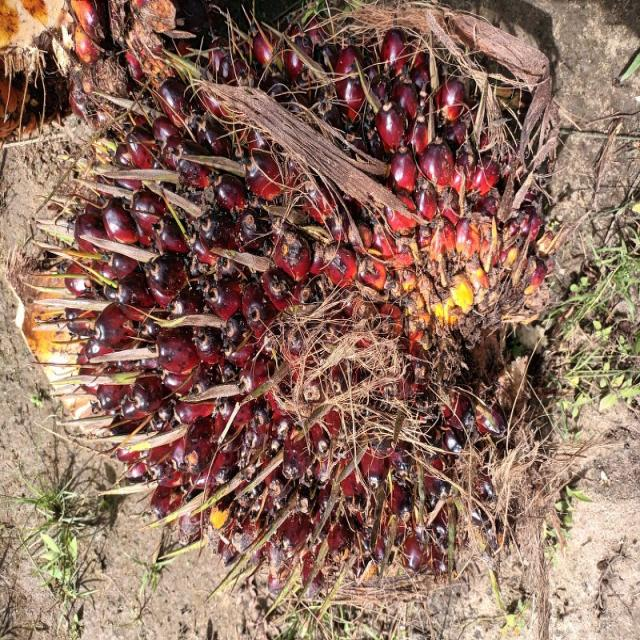fraksi 1: (46, 36, 469, 640)
